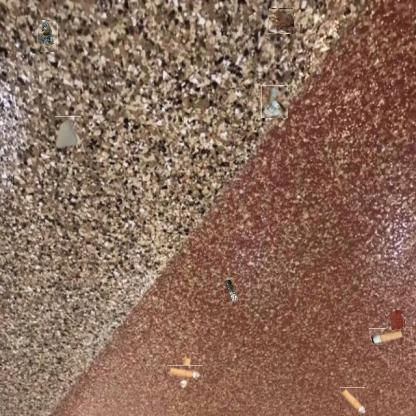dirty: (261, 85, 288, 118), (55, 116, 81, 149), (339, 388, 366, 416), (173, 360, 198, 386), (38, 20, 58, 52), (368, 328, 404, 345), (220, 276, 238, 302)
liquid: (269, 9, 293, 33), (385, 309, 405, 329)
